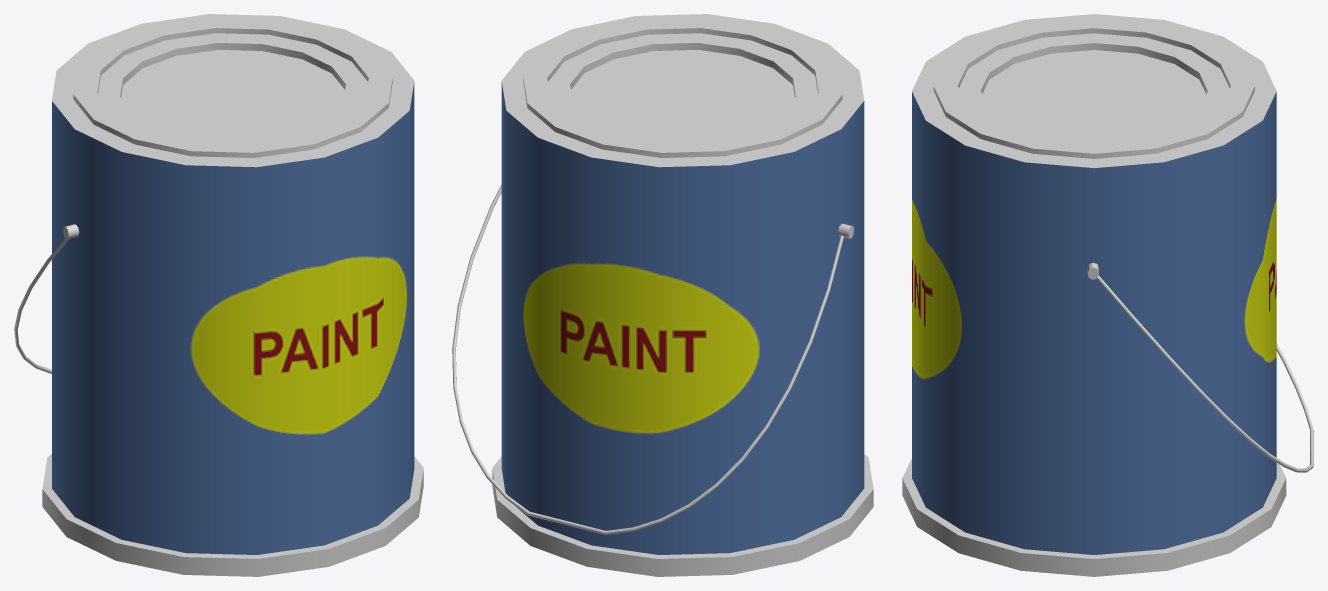
Rendered from Paint_Can.fbx.
3 views of the same model, side by side, from view 1: azimuth 30°, elevation 25°; view 2: azimuth 150°, elevation 25°; view 3: azimuth 270°, elevation 25° (orthographic).
Parts seen in each view (by area): view 1: Paint_Can_LOD_0; view 2: Paint_Can_LOD_0; view 3: Paint_Can_LOD_0.
Part boxes in pixels (bbox=[...]): Paint_Can_LOD_0: bbox=[14, 14, 423, 576]; Paint_Can_LOD_0: bbox=[452, 14, 873, 576]; Paint_Can_LOD_0: bbox=[902, 14, 1313, 576].
Size of what is drawn, in the model's own units: 18.14 by 20.76 by 18.87.
